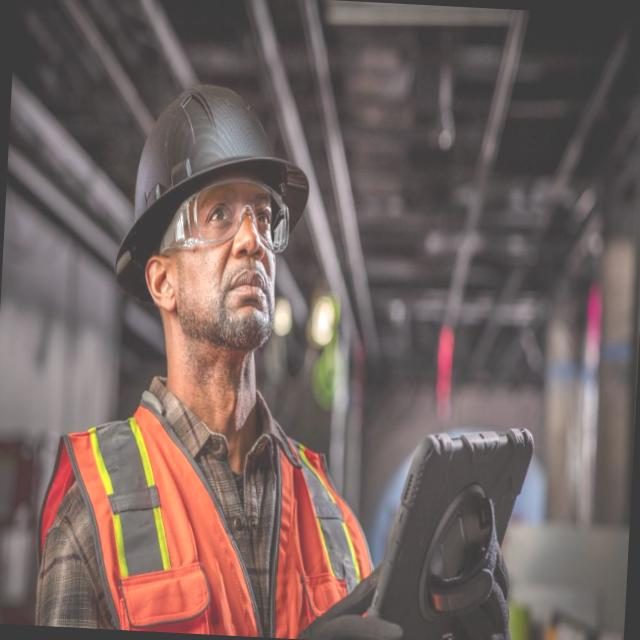goggles: (158, 184, 296, 266)
helmet: (106, 76, 309, 219)
vest: (29, 392, 400, 640)
